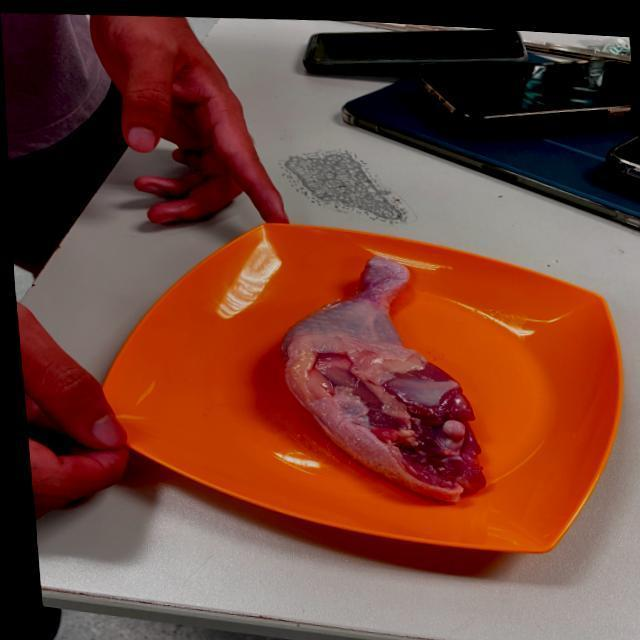quater: (288, 249, 494, 502)
